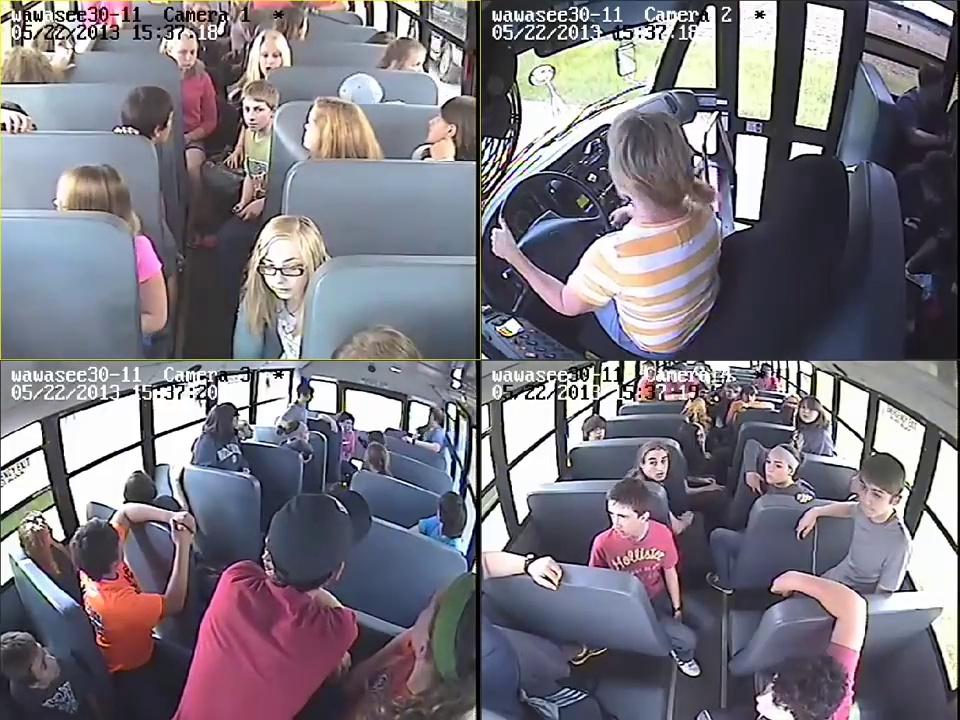face: (257, 243, 307, 300), (859, 475, 887, 514), (242, 96, 269, 134), (765, 454, 794, 486), (258, 41, 287, 72), (606, 502, 632, 536), (642, 449, 667, 484), (176, 44, 197, 68), (800, 399, 817, 423)
